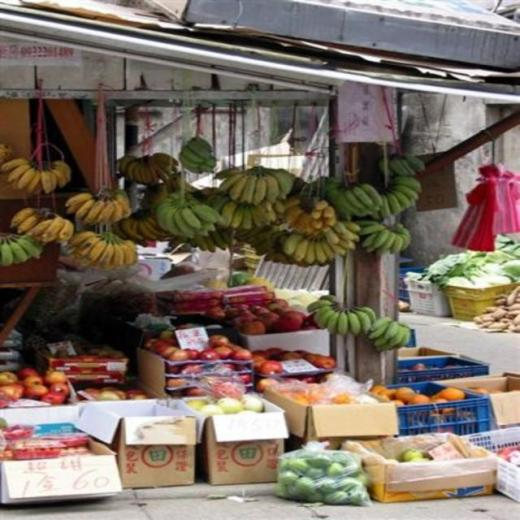Banana: (0, 154, 426, 266), (310, 296, 412, 353), (0, 145, 73, 194), (180, 135, 217, 176), (6, 163, 32, 181)
